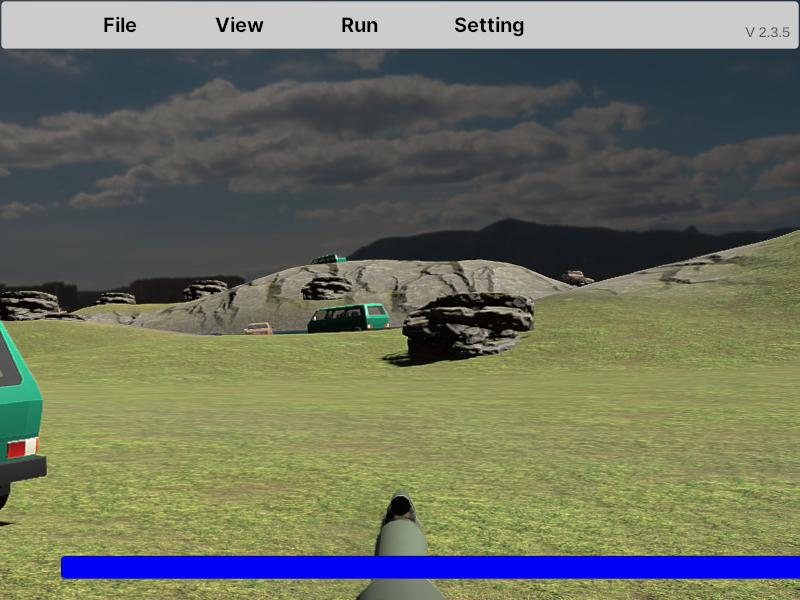car: (0, 286, 45, 534), (308, 304, 389, 338)
